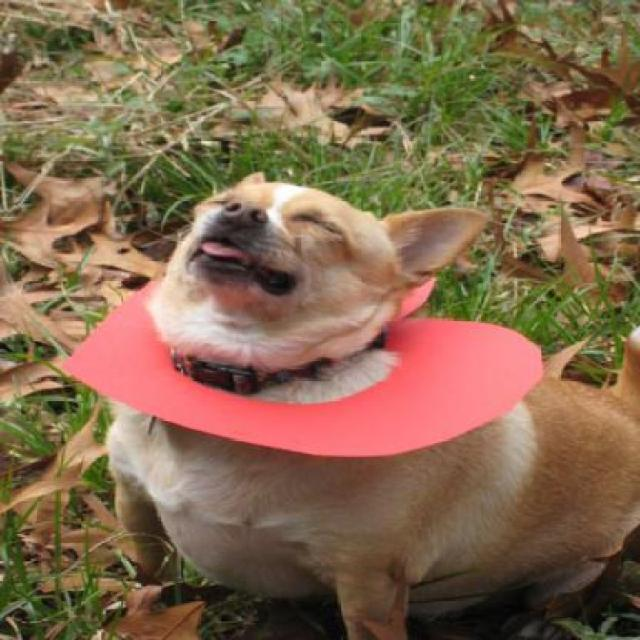Dog: (104, 171, 638, 638)
